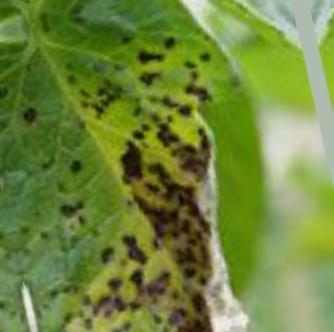Tomato Septoria leaf spot: (0, 0, 298, 332)
